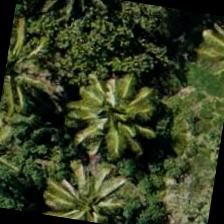Kelapa_Sawit: (60, 60, 162, 162), (43, 155, 142, 223), (0, 17, 65, 114)
